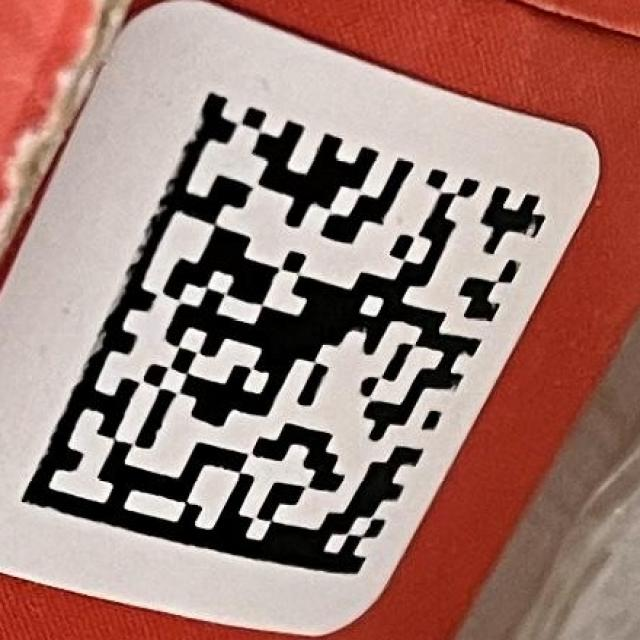QR_CODE: (20, 89, 548, 576)
